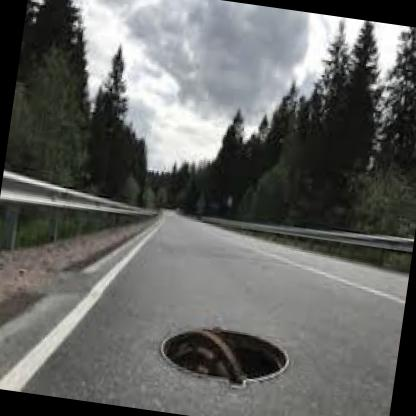manholes: (140, 294, 300, 412)
